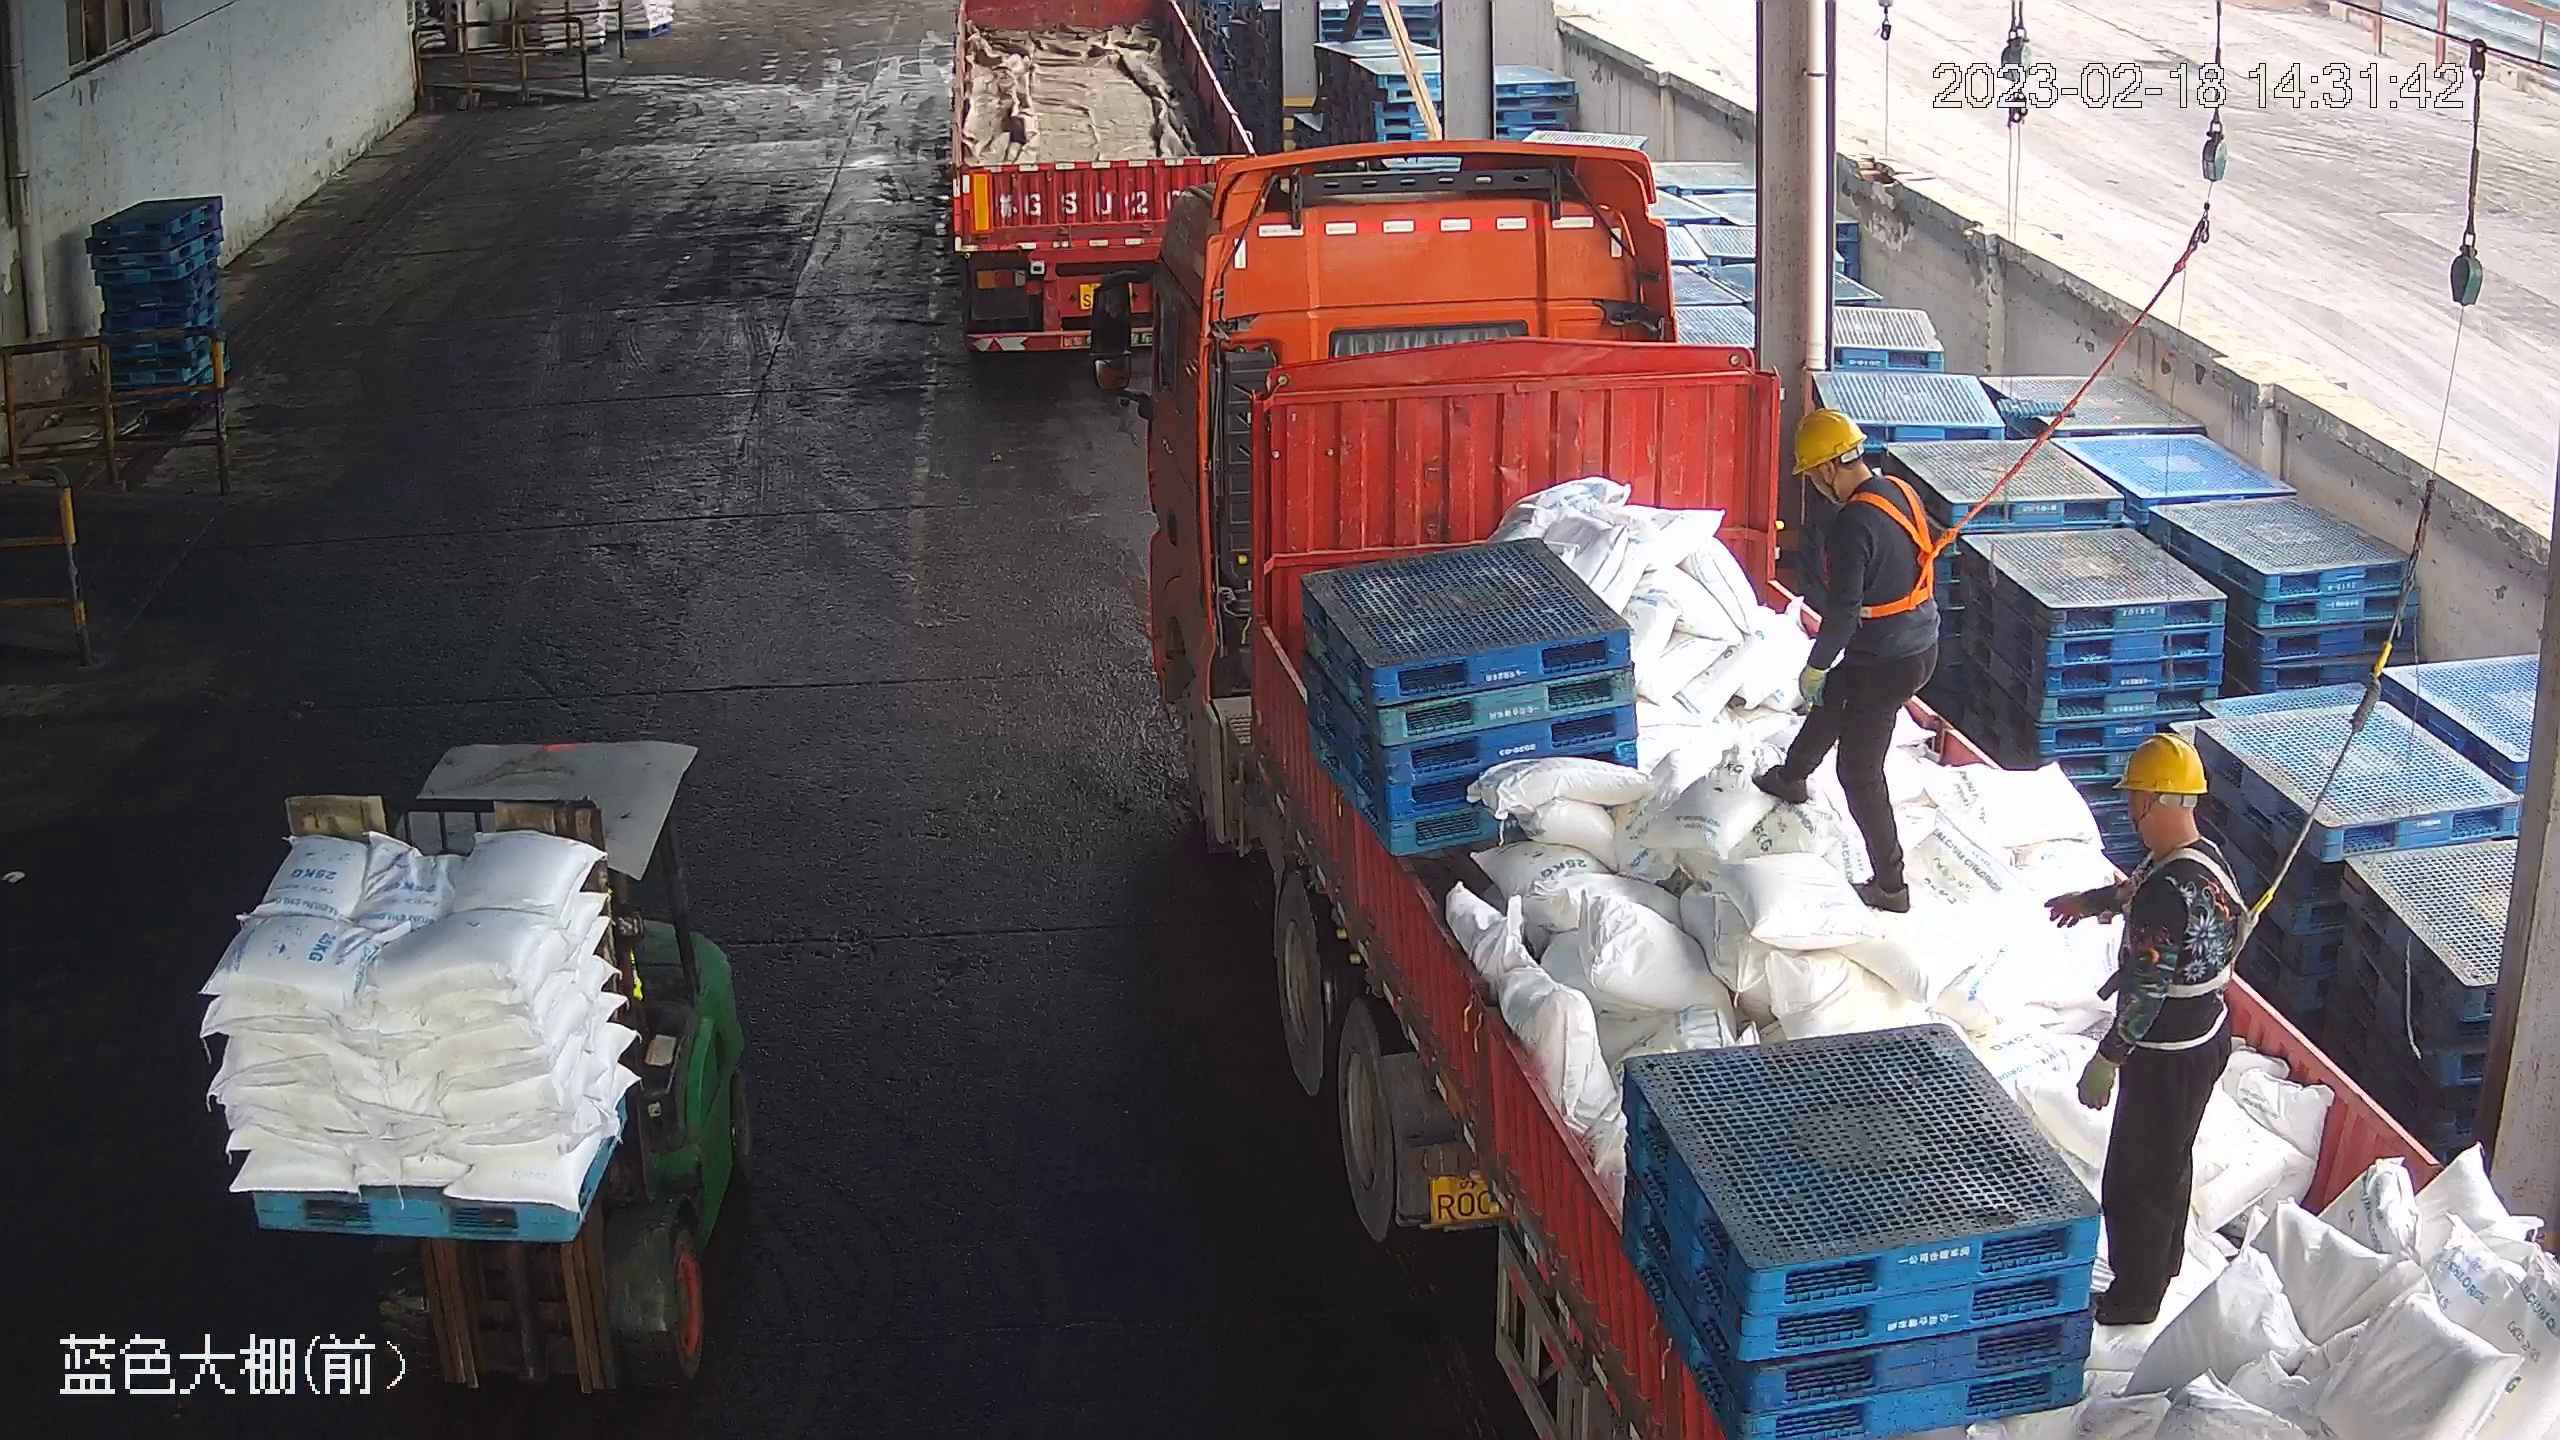belt: (2125, 846, 2258, 1005), (1835, 477, 1951, 623)
head: (2103, 727, 2241, 923), (1783, 404, 1934, 552)
helmet: (2112, 729, 2209, 796), (1786, 402, 1868, 474)
people: (2041, 732, 2248, 1341), (1744, 401, 1945, 918)
truck: (1079, 139, 2556, 1437), (930, 1, 1271, 375)
